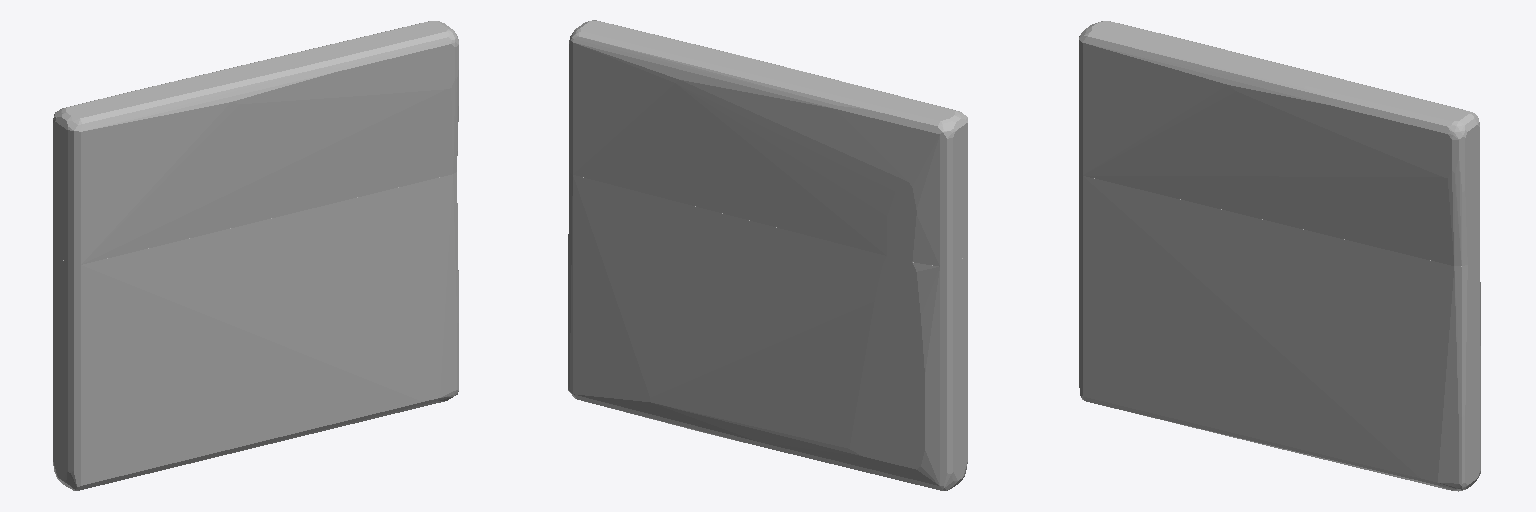
robot.urdf — root:
<robot name="root">
  <link name="link_coacd_convex_piece_0">
    <inertial>
      <origin xyz="0 0 0" rpy="0 0 0"/>
      <inertia ixx="2.10E-02" ixy="5.44E-04" ixz="3.67E-04" iyy="2.97E-02" iyz="2.42E-05" izz="4.99E-02"/>
    </inertial>
    <visual>
      <origin xyz="0 0 0" rpy="0 0 0"/>
      <geometry>
        <mesh filename="coacd_convex_piece_0.obj" scale="1.0000E+00 1.0000E+00 1.0000E+00"/>
      </geometry>
      <material name="">
        <color rgba="7.50E-01 7.50E-01 7.50E-01 1"/>
      </material>
    </visual>
    <collision>
      <origin xyz="0 0 0" rpy="0 0 0"/>
      <geometry>
        <mesh filename="coacd_convex_piece_0.obj" scale="1.0000E+00 1.0000E+00 1.0000E+00"/>
      </geometry>
    </collision>
  </link>
  <link name="link_coacd_convex_piece_1">
    <inertial>
      <origin xyz="0 0 0" rpy="0 0 0"/>
      <inertia ixx="2.06E-02" ixy="-4.16E-04" ixz="2.32E-04" iyy="1.85E-02" iyz="-1.86E-04" izz="3.86E-02"/>
    </inertial>
    <visual>
      <origin xyz="0 0 0" rpy="0 0 0"/>
      <geometry>
        <mesh filename="coacd_convex_piece_1.obj" scale="1.0000E+00 1.0000E+00 1.0000E+00"/>
      </geometry>
      <material name="">
        <color rgba="7.50E-01 7.50E-01 7.50E-01 1"/>
      </material>
    </visual>
    <collision>
      <origin xyz="0 0 0" rpy="0 0 0"/>
      <geometry>
        <mesh filename="coacd_convex_piece_1.obj" scale="1.0000E+00 1.0000E+00 1.0000E+00"/>
      </geometry>
    </collision>
  </link>
  <joint name="link_coacd_convex_piece_1_joint" type="fixed">
    <origin xyz="0 0 0" rpy="0 0 0"/>
    <parent link="link_coacd_convex_piece_0"/>
    <child link="link_coacd_convex_piece_1"/>
  </joint>
</robot>

--- Facts derived from the render (not from the file) ---
3 views of the same robot in one strip: view 1: azimuth 30°, elevation 25°; view 2: azimuth 150°, elevation 25°; view 3: azimuth 330°, elevation 25° (orthographic).
Robot: root — 2 links, 1 joints (1 fixed); root link link_coacd_convex_piece_0; default pose: every joint at zero.
Links seen in each view (by area): view 1: link_coacd_convex_piece_0, link_coacd_convex_piece_1; view 2: link_coacd_convex_piece_0, link_coacd_convex_piece_1; view 3: link_coacd_convex_piece_0, link_coacd_convex_piece_1.
Boxes of the visible links, bbox=[...] form: link_coacd_convex_piece_0: bbox=[53, 172, 458, 490]; link_coacd_convex_piece_1: bbox=[53, 21, 458, 264]; link_coacd_convex_piece_0: bbox=[568, 173, 967, 490]; link_coacd_convex_piece_1: bbox=[569, 20, 967, 266]; link_coacd_convex_piece_0: bbox=[1079, 174, 1480, 491]; link_coacd_convex_piece_1: bbox=[1079, 21, 1479, 265].
Size in the robot's own frame: 1.47 by 0.192 by 1.34 metres.
Meshes: 2 distinct files referenced, 2 mesh visuals loaded (2 OBJ).
